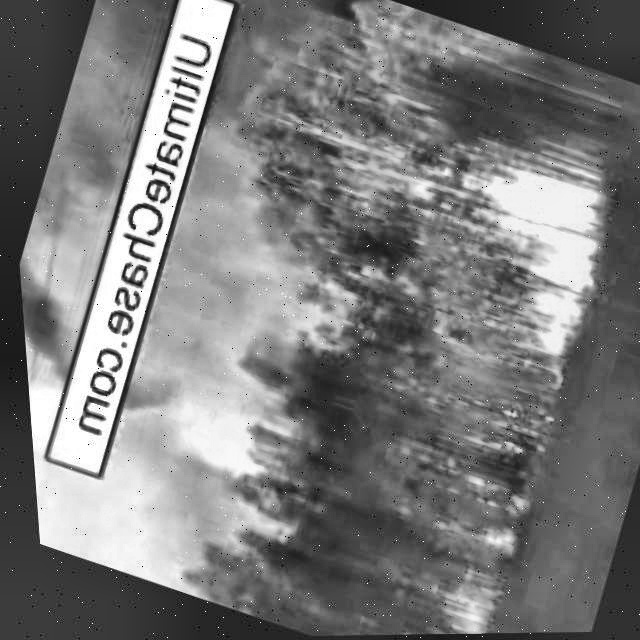Fire: (370, 113, 630, 380), (450, 477, 522, 560), (423, 587, 490, 635)
Smoke: (35, 0, 446, 613), (0, 0, 226, 405)
